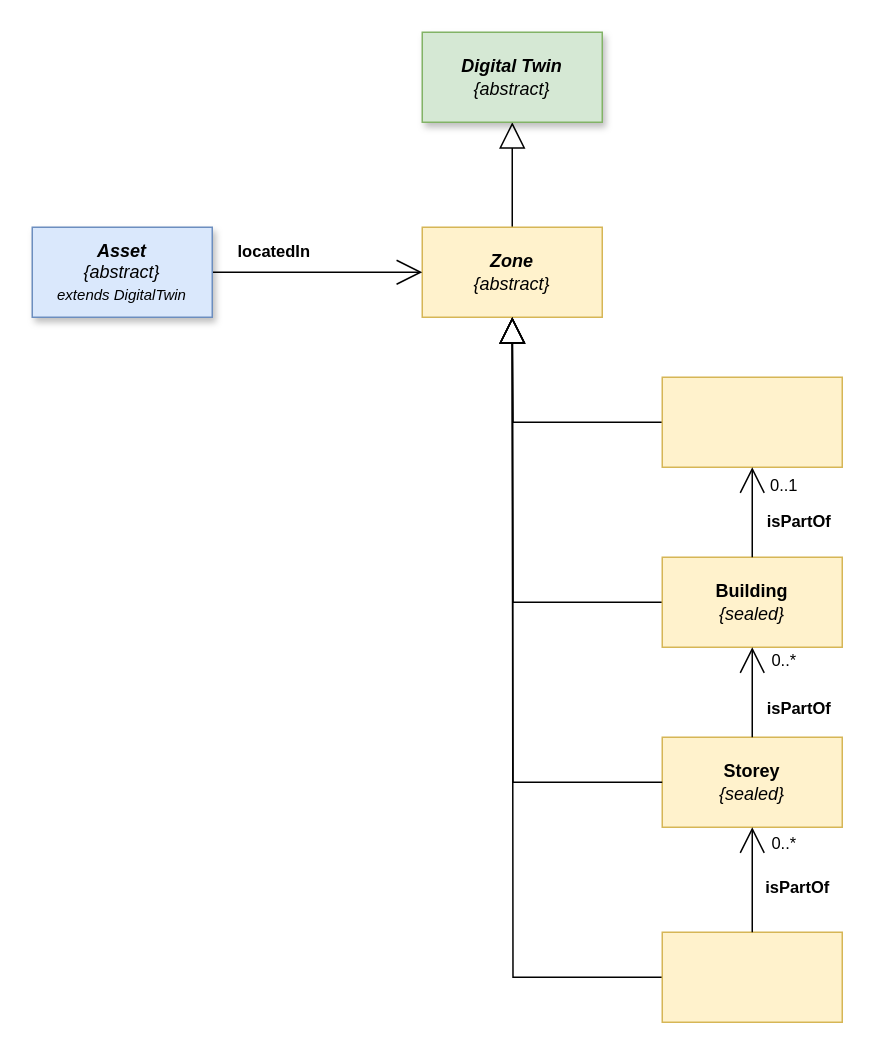
This 869x1049 diagram has some shape labels left out. Here are the shapes that lost their labels. From the top down, the centre of each, then its label:
At point 751,421: "Site {sealed}".
At point 751,976: "Space {sealed}".
